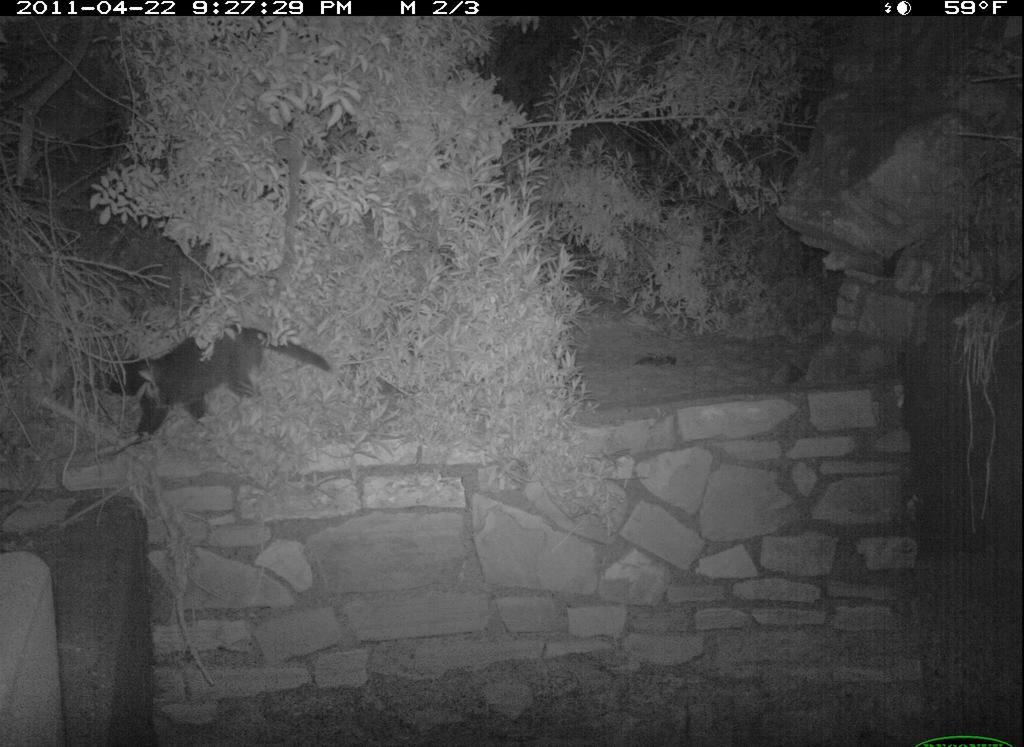cat: (73, 314, 358, 469)
